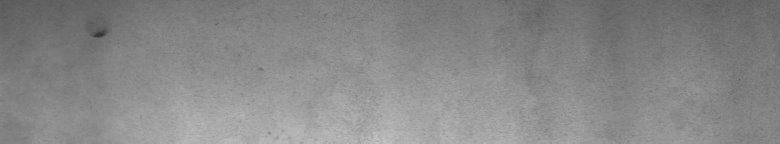fi: (91, 23, 108, 44)
